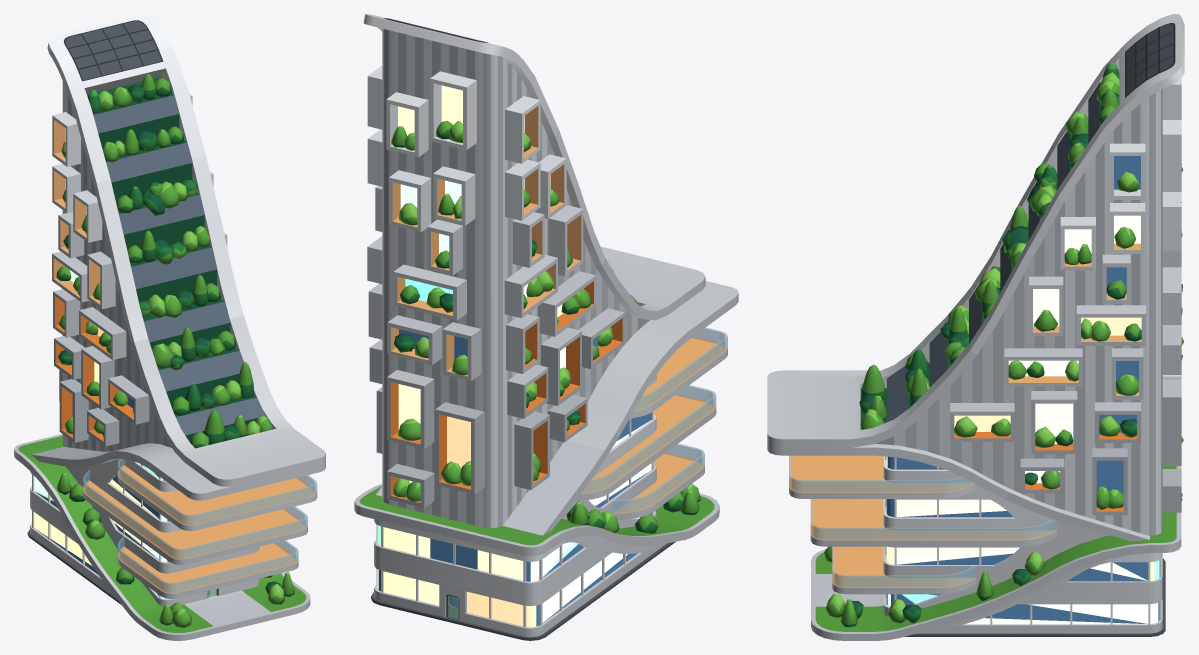
File: torre_eco_rampa_jardim_pacote.glb
3 renders of one model, left to right at view 1: azimuth 30°, elevation 25°; view 2: azimuth 150°, elevation 25°; view 3: azimuth 270°, elevation 25°, orthographic. The views are drawn at different scales.
Visible parts, largest first — view 1: torre_eco_rampa_jardim_pacote; view 2: torre_eco_rampa_jardim_pacote; view 3: torre_eco_rampa_jardim_pacote.
Part boxes in pixels (box(x1,y1,x2,y2)): torre_eco_rampa_jardim_pacote: box(14, 14, 325, 640); torre_eco_rampa_jardim_pacote: box(354, 14, 738, 640); torre_eco_rampa_jardim_pacote: box(767, 14, 1184, 640).
Bounding box in the file's own units: 13.99 × 41.74 × 28.
Materials: 8 (1 with a texture image).
